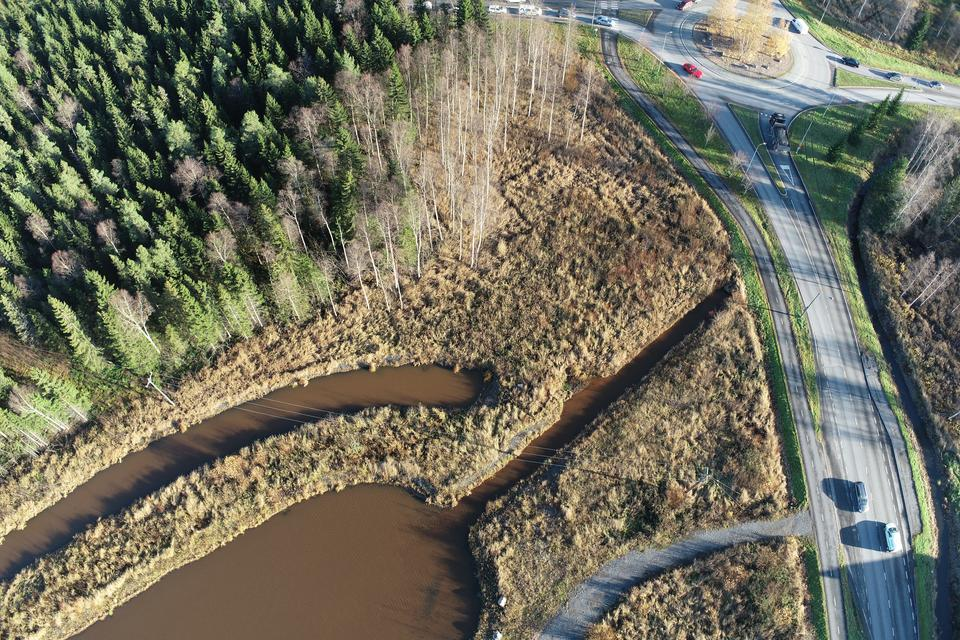intersection: (771, 490, 929, 559), (580, 0, 634, 52)
roundabout: (641, 1, 865, 150)
